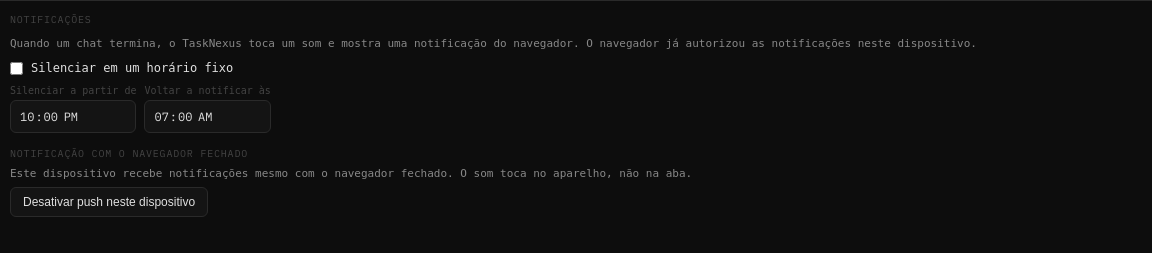
it: NotificationSettings — disabling push › surfaces a failure to unsubscribe
Click the button "Desativar push neste dispositivo" at (109, 202), box [10, 187, 208, 217]
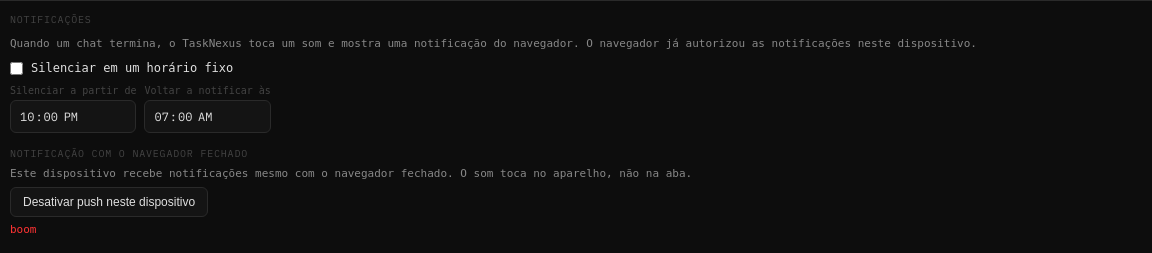
expect the message reads "boom": met, box [10, 223, 36, 236]
